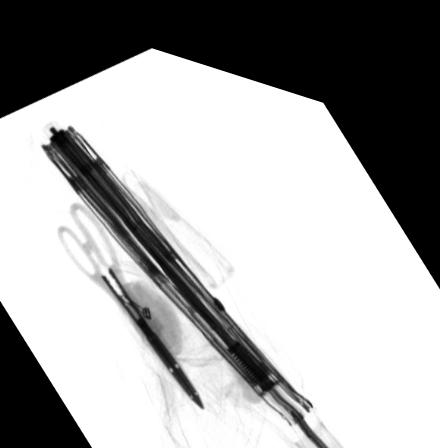Scissors: (57, 195, 205, 396)
